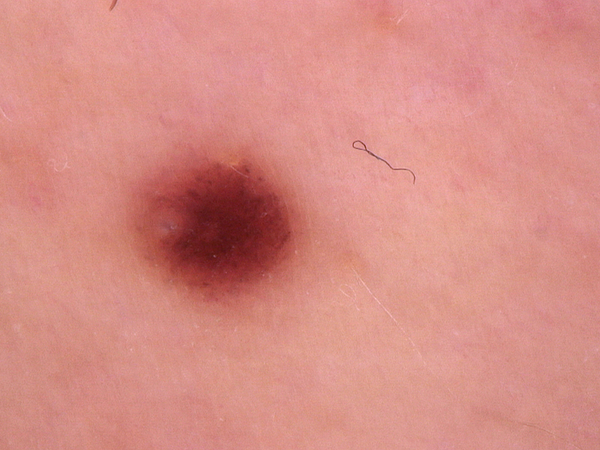Detected Lesion: (135, 146, 305, 305)
